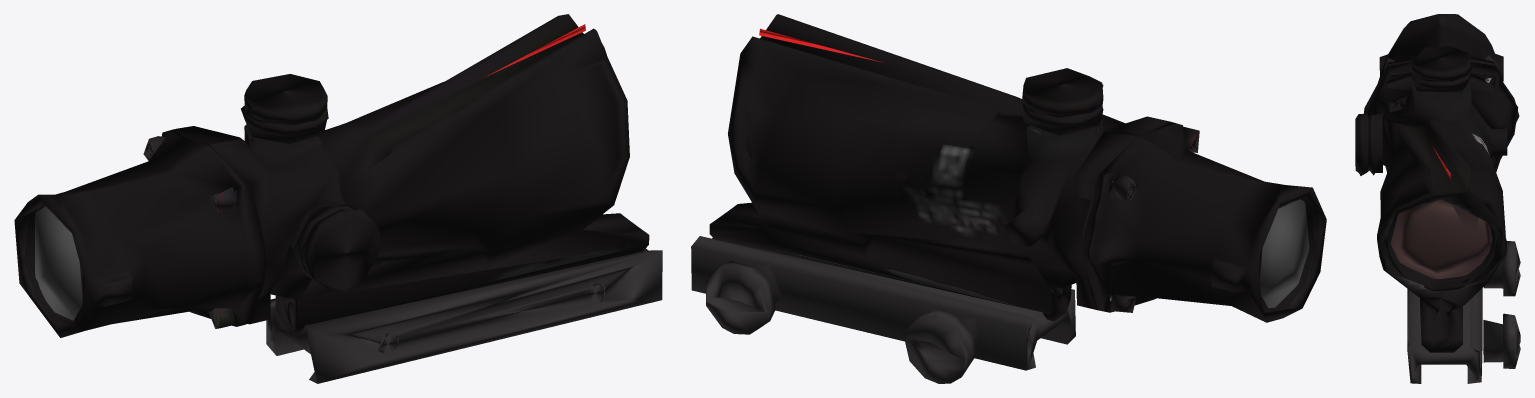
The model's file is acog_sight_lod1.glb.
3 renders of one model, left to right at view 1: azimuth 30°, elevation 25°; view 2: azimuth 150°, elevation 25°; view 3: azimuth 270°, elevation 25°, orthographic. The views are drawn at different scales.
Visible parts, largest first — view 1: acog_sight; view 2: acog_sight; view 3: acog_sight.
Part boxes in pixels (box(x1,y1,x2,y2)): acog_sight: box(14, 14, 662, 383); acog_sight: box(691, 14, 1326, 383); acog_sight: box(1355, 14, 1520, 383).
Bounding box in the file's own units: 0.1431 × 0.0667 × 0.0481.
Materials: 1 (1 with a texture image).
